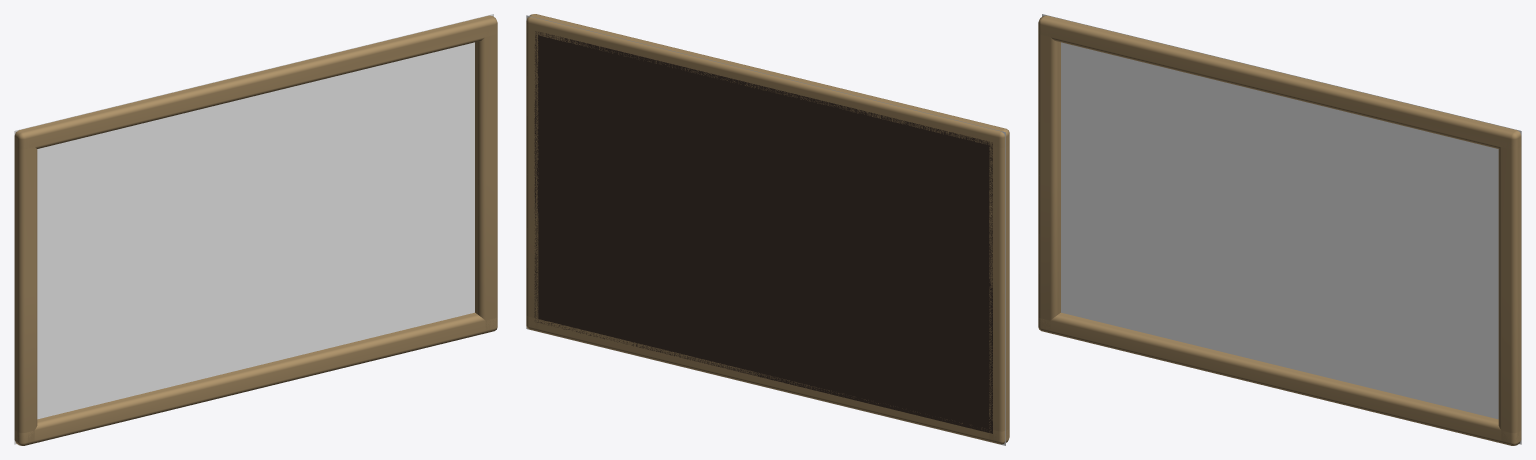
File: furn_swatch_board.glb
3 views of the same model, side by side, from view 1: azimuth 30°, elevation 25°; view 2: azimuth 150°, elevation 25°; view 3: azimuth 330°, elevation 25° (orthographic).
Parts seen in each view (by area): view 1: furn_swatch_board_pic, furn_swatch_board_main; view 2: furn_swatch_board_main, furn_swatch_board_pic; view 3: furn_swatch_board_pic, furn_swatch_board_main.
Boxes of the visible parts, box(x1,y1,x2,y2) form: furn_swatch_board_pic: box(14, 14, 493, 444); furn_swatch_board_main: box(14, 15, 497, 445); furn_swatch_board_main: box(526, 14, 1009, 444); furn_swatch_board_pic: box(526, 15, 1005, 445); furn_swatch_board_pic: box(1042, 14, 1521, 444); furn_swatch_board_main: box(1038, 15, 1521, 445).
Bounding box in the file's own units: 2 × 1.25 × 0.06.
